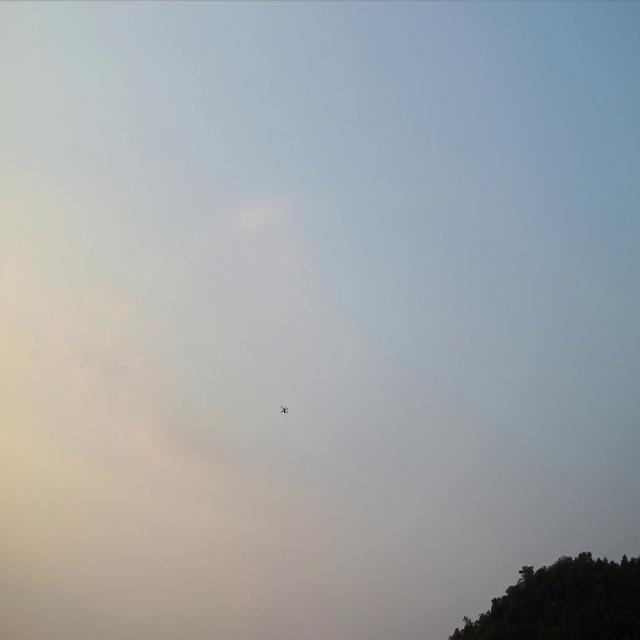UAV: (280, 404, 289, 415)
